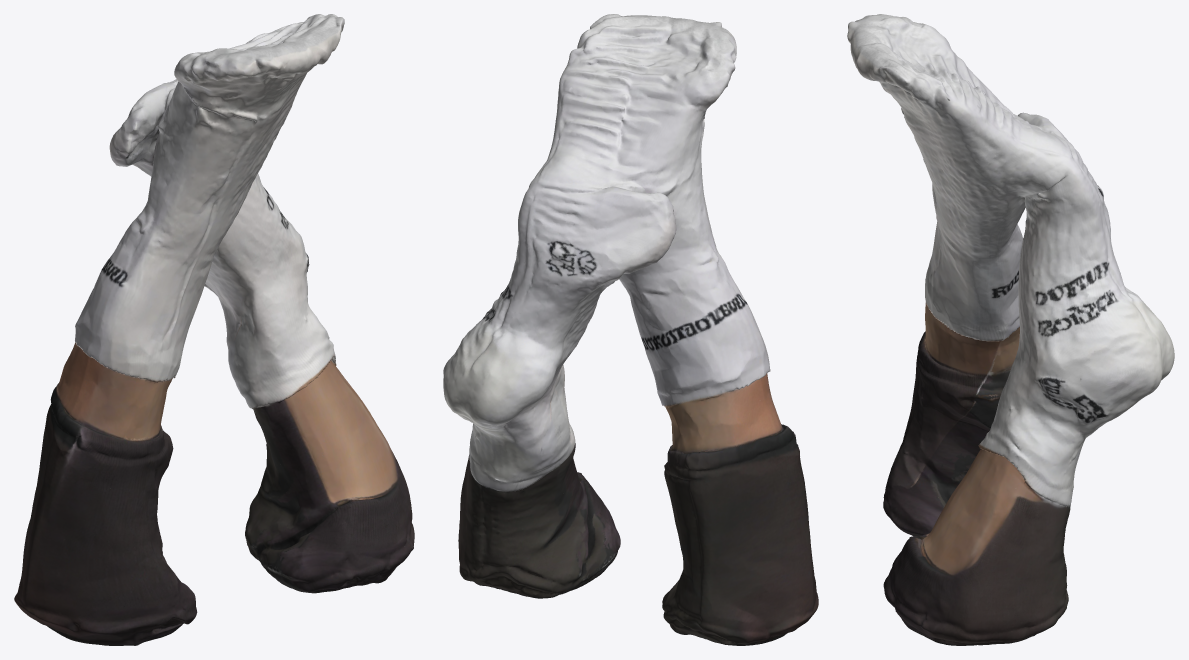
Rendered from mng.glb.
3 views of the same model, side by side, from view 1: azimuth 30°, elevation 25°; view 2: azimuth 150°, elevation 25°; view 3: azimuth 270°, elevation 25° (orthographic). The views are drawn at different scales.
Bounding box in the file's own units: 1.36 × 2 × 1.1.
1 material, 1 textured.
